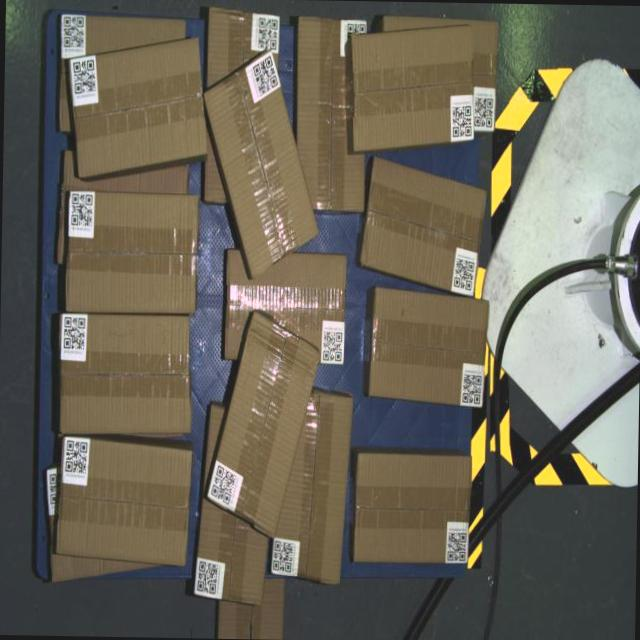box: (199, 48, 322, 281), (205, 308, 321, 540), (66, 35, 210, 180), (359, 156, 487, 298), (55, 435, 192, 567), (349, 22, 476, 153), (58, 313, 192, 435), (65, 190, 198, 312), (270, 389, 352, 584), (368, 286, 488, 408), (352, 451, 472, 564)
